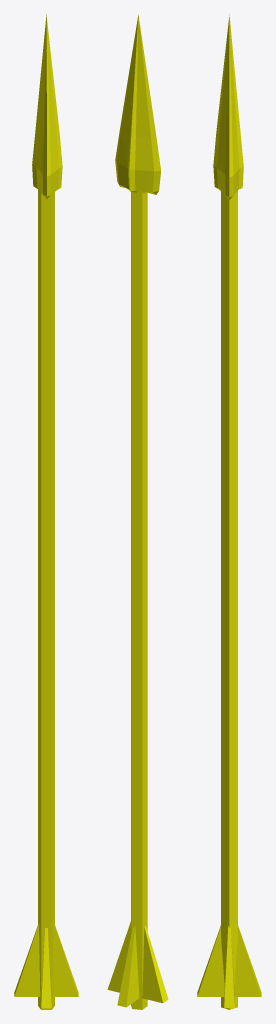
The model's file is _arrow_b_5.glb.
The picture shows the model from 3 angles, left to right: view 1: azimuth 90°, elevation 25°; view 2: azimuth 150°, elevation 25°; view 3: azimuth 270°, elevation 25°; orthographic projection.
Visible parts, largest first — view 1: arrow_b_5; view 2: arrow_b_5; view 3: arrow_b_5.
Boxes of the visible parts, x1,y1,x2,y2 form: arrow_b_5: (14, 14, 78, 1009); arrow_b_5: (107, 14, 168, 1009); arrow_b_5: (197, 14, 261, 1009).
Bounding box in the file's own units: 0.0379 × 0.6451 × 0.0379.
1 material, 1 textured.
